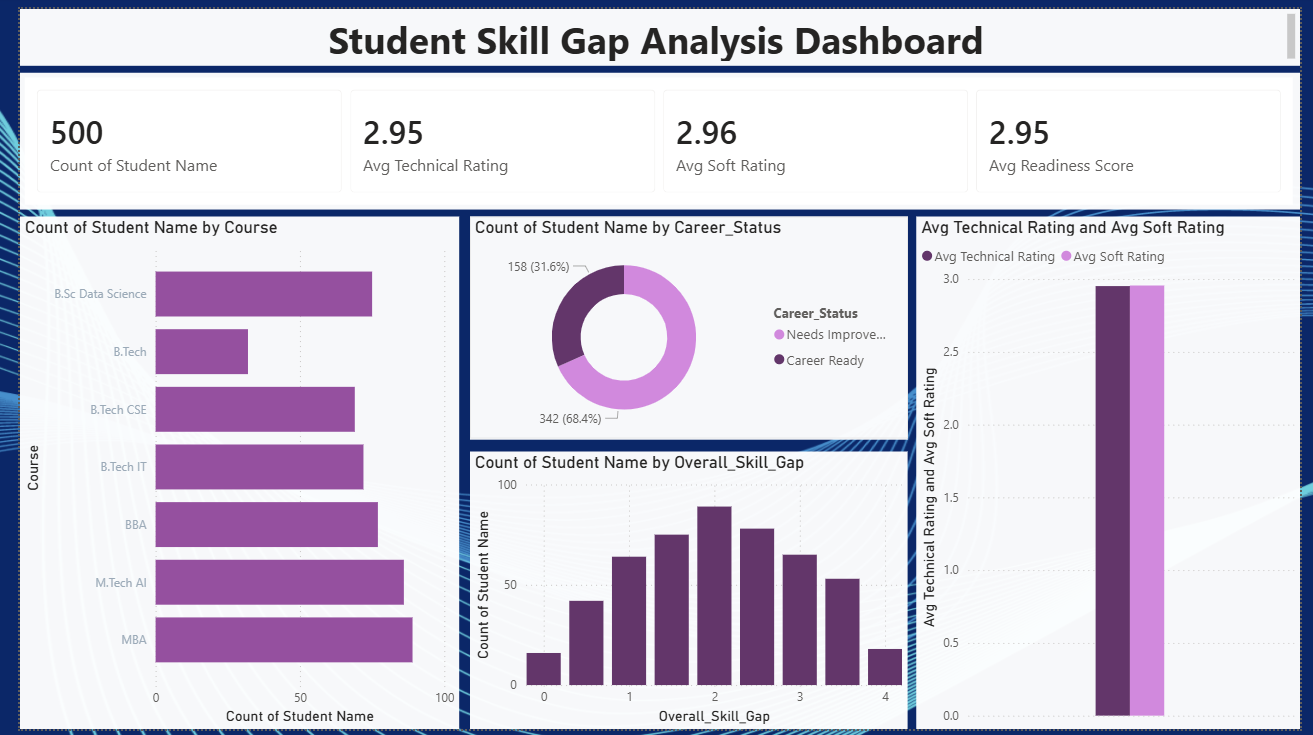

The dashboard page shown, as its layout file describes it:
{"tool":"powerbi","page":{"name":"Page 1","canvas":[1280,720],"ordinal":0},"visuals":[{"type":"cardVisual","fields":{"Data":["CountNonNull(Studentskillgap.Student Name)","Studentskillgap.Avg Technical Rating","Studentskillgap.Avg Soft Rating","Studentskillgap.Avg Readiness Score"]},"box":[0,64.3,1280,137.1],"z":0},{"type":"clusteredBarChart","fields":{"Y":["select","CountNonNull(Studentskillgap.Student Name)"],"Category":["Studentskillgap.Course"]},"box":[0,207.1,439.5,513.1],"z":1000},{"type":"clusteredColumnChart","fields":{"Y":["Studentskillgap.Avg Technical Rating","Studentskillgap.Avg Soft Rating"]},"box":[895.8,207.1,383.8,513.1],"z":2000},{"type":"donutChart","fields":{"Category":["Studentskillgap.Career_Status"],"Y":["CountNonNull(Studentskillgap.Student Name)"]},"box":[450,207.1,437.4,222.9],"z":3000},{"type":"clusteredColumnChart","fields":{"Y":["CountNonNull(Studentskillgap.Student Name)"],"Category":["Studentskillgap.Overall_Skill_Gap"]},"box":[450,442.6,437.4,277.6],"z":4000},{"type":"textbox","box":[0,0,1280,57.1],"z":5000}]}

Visuals, with their boxes in screenshot pixels (x1, y1, x2, y2), scaled from the page's 1280x720 canvas onto the 1313x735 screenshot:
cardVisual - CountNonNull(Studentskillgap.Student Name) x Studentskillgap.Avg Technical Rating: x1=0, y1=66, x2=1312, y2=206
clusteredBarChart - select x CountNonNull(Studentskillgap.Student Name): x1=0, y1=211, x2=451, y2=734
clusteredColumnChart - Studentskillgap.Avg Technical Rating x Studentskillgap.Avg Soft Rating: x1=919, y1=211, x2=1312, y2=734
donutChart - Studentskillgap.Career_Status x CountNonNull(Studentskillgap.Student Name): x1=462, y1=211, x2=910, y2=439
clusteredColumnChart - CountNonNull(Studentskillgap.Student Name) x Studentskillgap.Overall_Skill_Gap: x1=462, y1=452, x2=910, y2=734
textbox: x1=0, y1=0, x2=1312, y2=58
